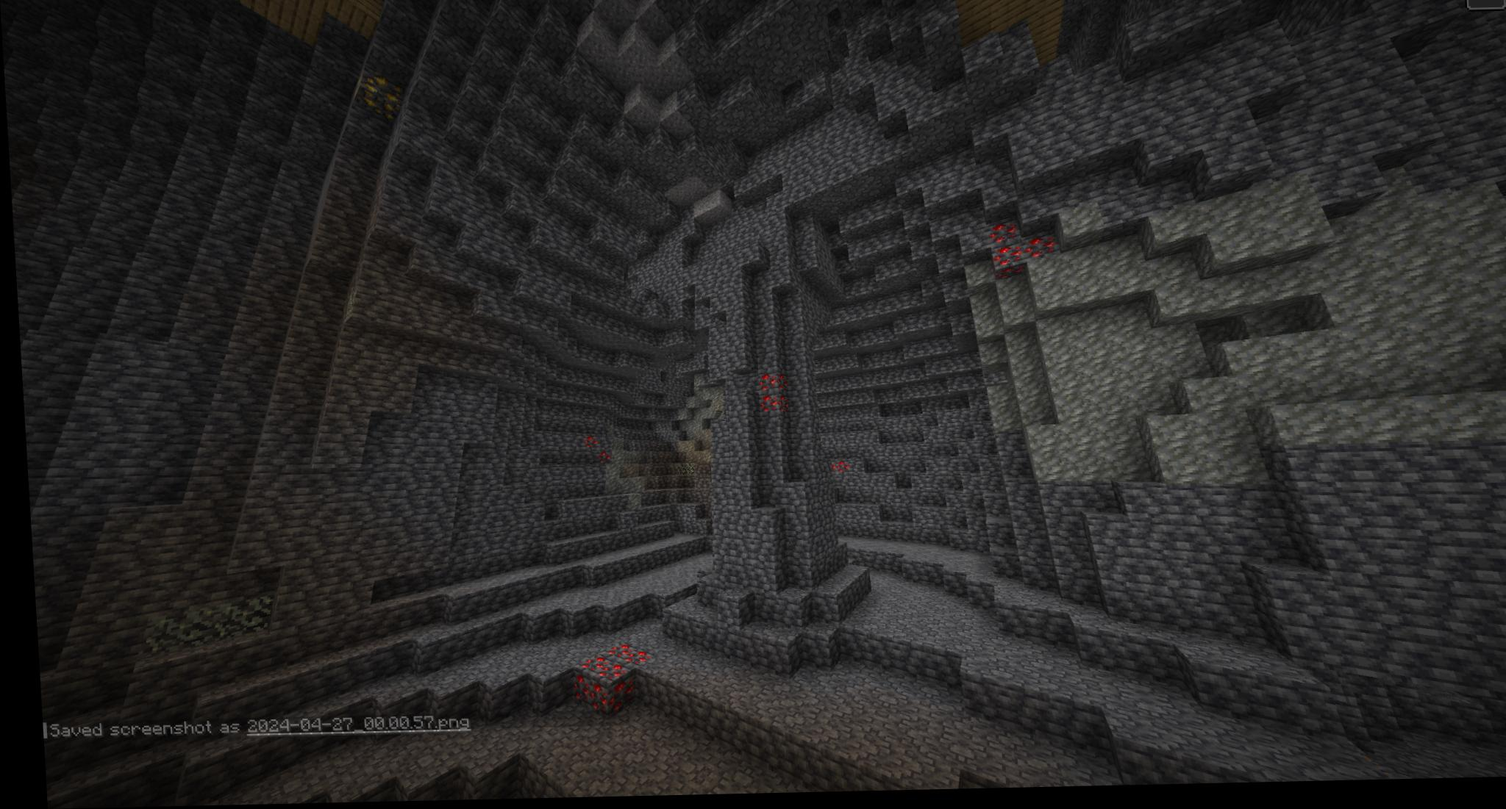gold ore: (348, 69, 412, 126)
redstone ore: (570, 644, 642, 710), (978, 219, 1058, 273), (579, 437, 608, 471), (747, 372, 784, 397), (749, 397, 785, 420), (824, 461, 848, 483)
